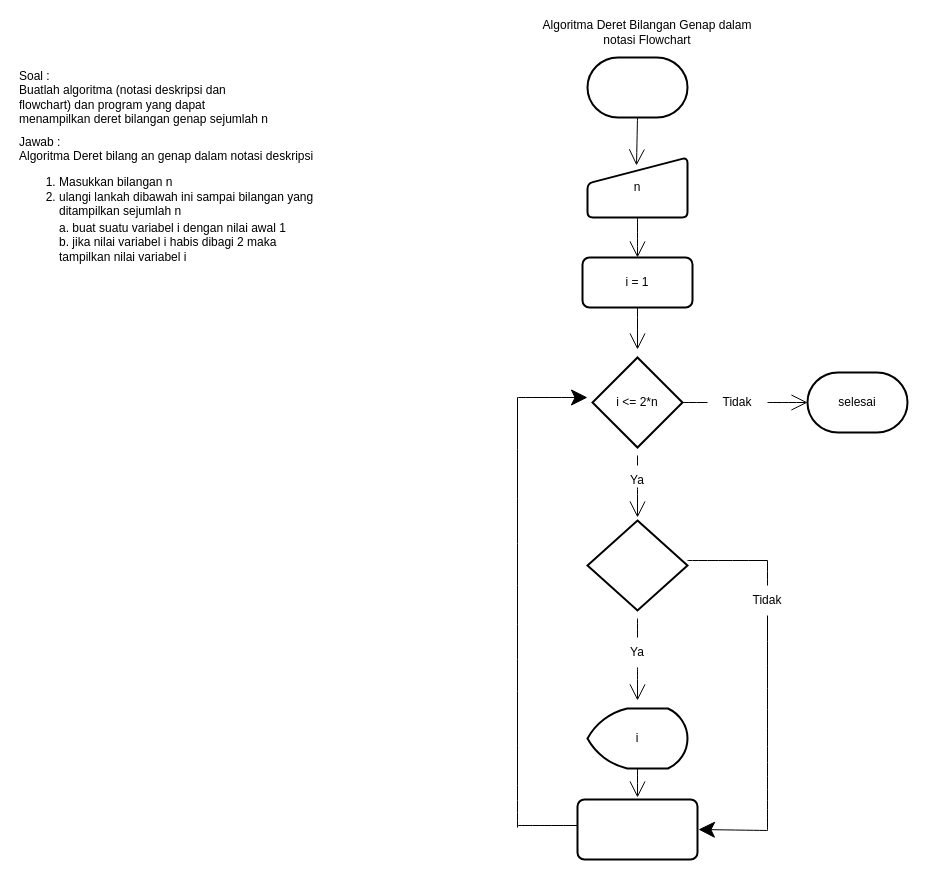
This 925x877 diagram has some shape labels left out. The centre of each missing label's shape, as x and y in pixels:
"i = i + 1" belongs at point (637, 829).
"i mod 2 == 0" belongs at point (637, 565).
"mulai" belongs at point (637, 87).
